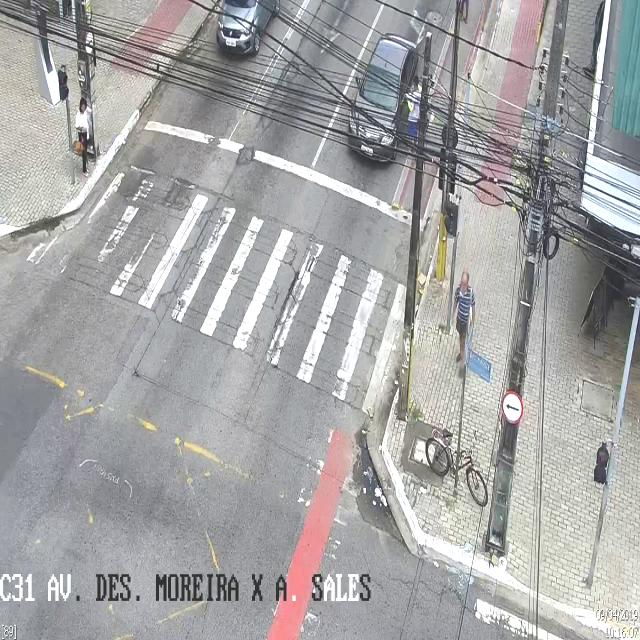Car: (347, 31, 419, 165), (215, 1, 280, 55)
